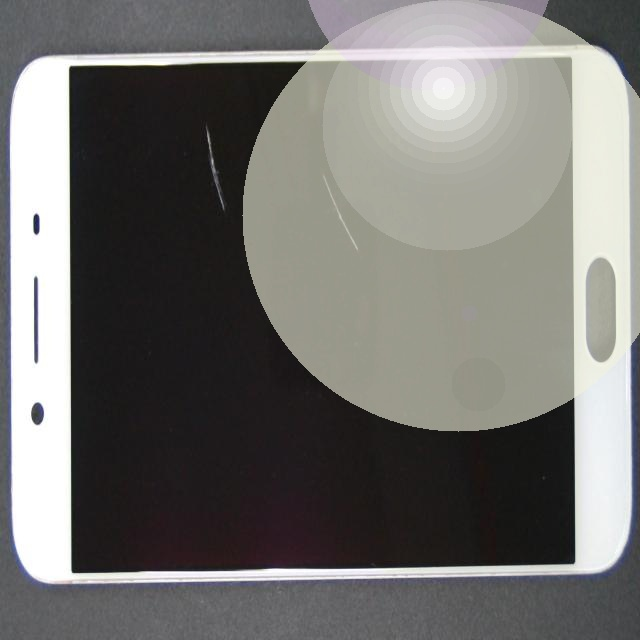scratch: (209, 177, 527, 325), (135, 129, 338, 242)
